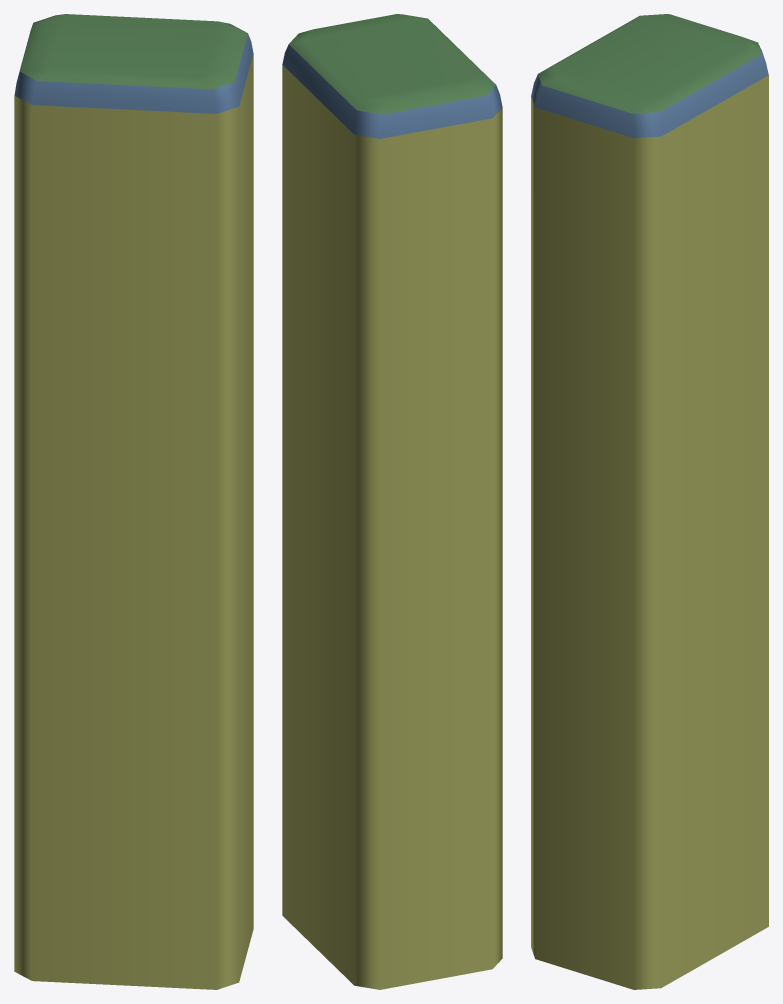
The model's file is Sexta_Plat.fbx.
3 views of the same model, side by side, from view 1: azimuth 30°, elevation 25°; view 2: azimuth 150°, elevation 25°; view 3: azimuth 270°, elevation 25° (orthographic). The views are drawn at different scales.
Visible parts, largest first — view 1: Sexta_Plat, Ground13, Wall11; view 2: Sexta_Plat, Ground13, Wall11; view 3: Sexta_Plat, Ground13, Wall11.
Boxes of the visible parts, x1,y1,x2,y2 form: Sexta_Plat: [14, 54, 253, 989]; Ground13: [20, 14, 247, 89]; Wall11: [14, 26, 253, 113]; Sexta_Plat: [282, 65, 502, 989]; Ground13: [289, 14, 495, 114]; Wall11: [282, 44, 502, 138]; Sexta_Plat: [531, 75, 768, 989]; Ground13: [538, 14, 761, 113]; Wall11: [531, 45, 768, 138].
Size of the model in its own units: 4193 by 16294 by 3990.
